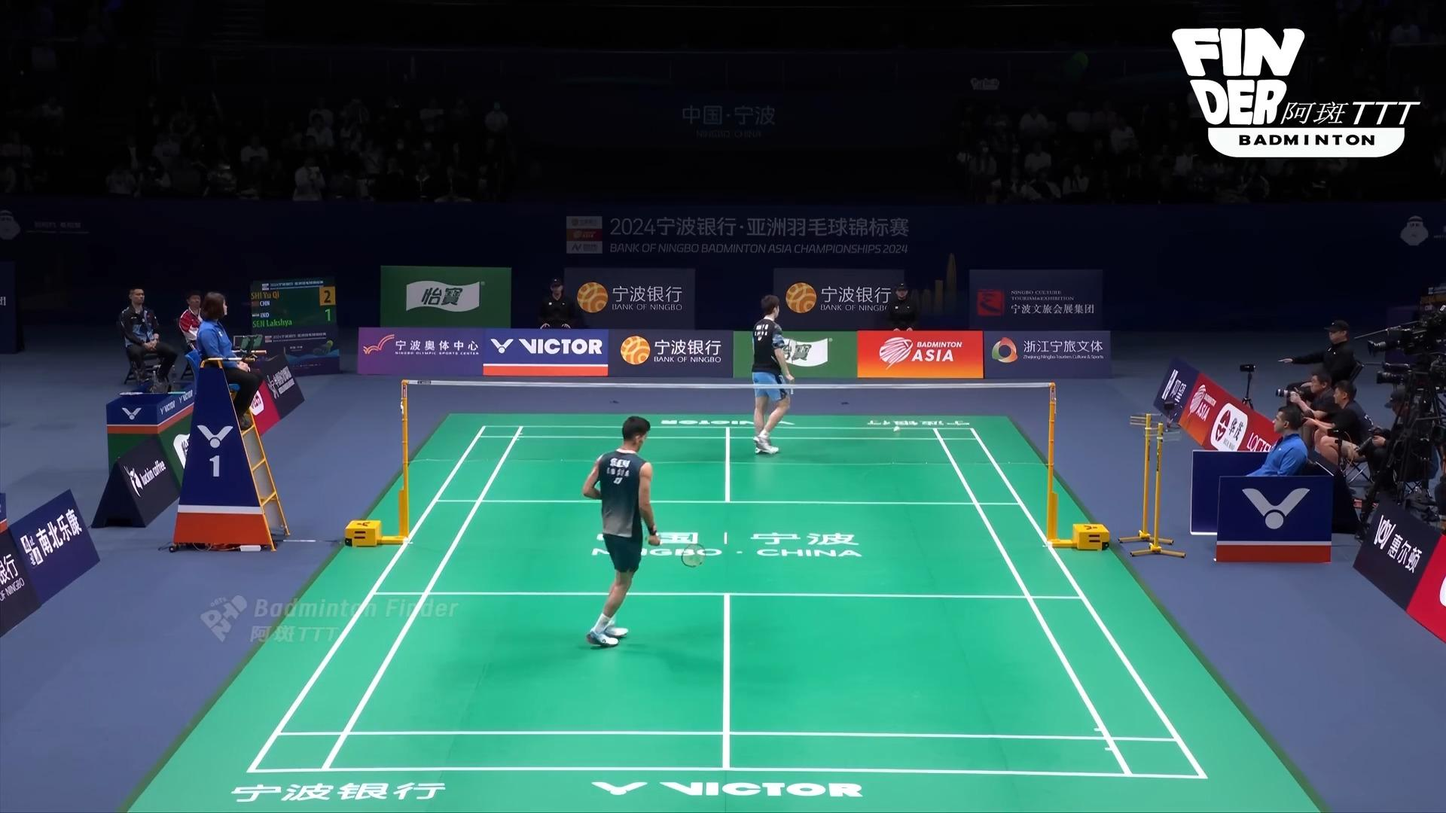shuttlecock: (892, 425, 901, 434)
